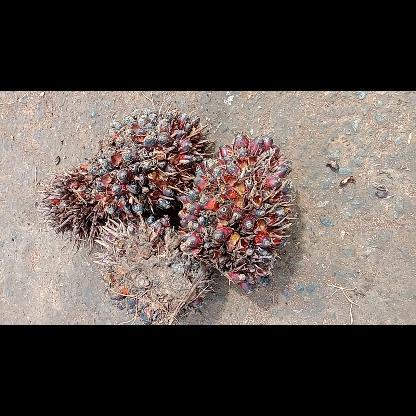TBS abnormal: (178, 132, 294, 290), (88, 102, 210, 218), (92, 214, 216, 324), (37, 165, 125, 249)
